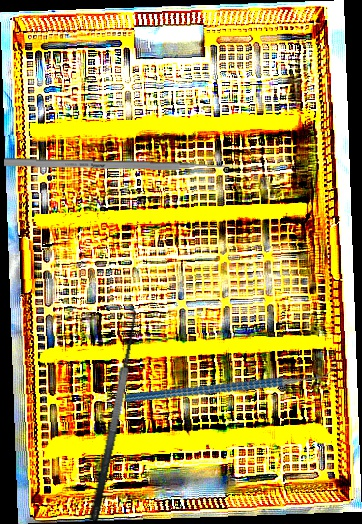Chopper: (123, 317, 340, 447)
Pusher: (3, 157, 240, 172)
Spatula Surgical: (70, 305, 149, 523)
